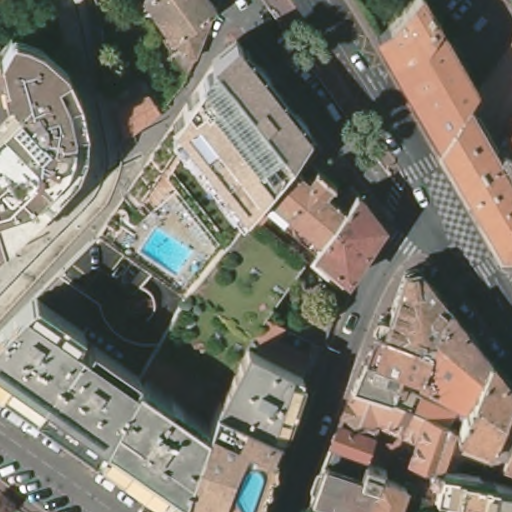pool: (137, 227, 196, 278), (230, 469, 265, 507)
